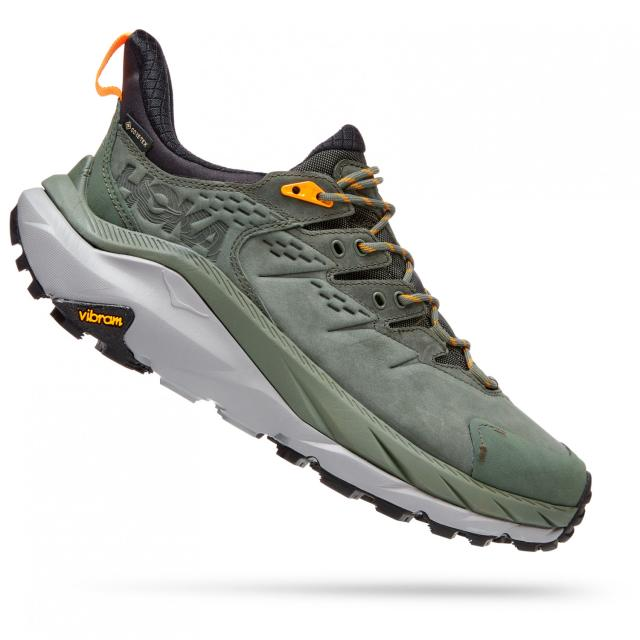shoe: (2, 17, 602, 567)
